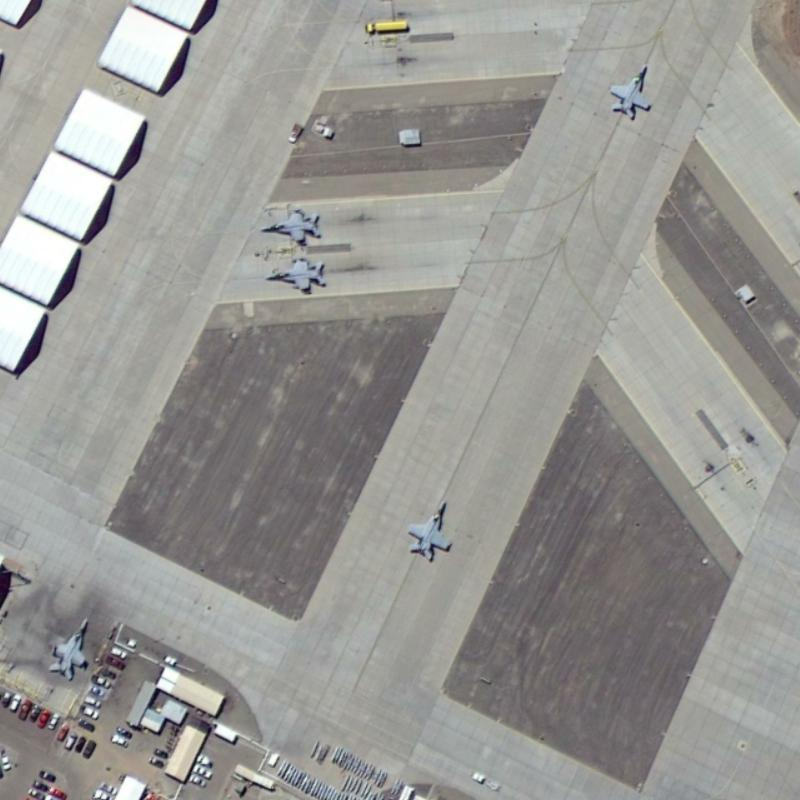A16: (404, 496, 455, 562), (46, 614, 91, 681), (260, 253, 329, 295), (257, 205, 323, 248), (607, 61, 652, 121)
